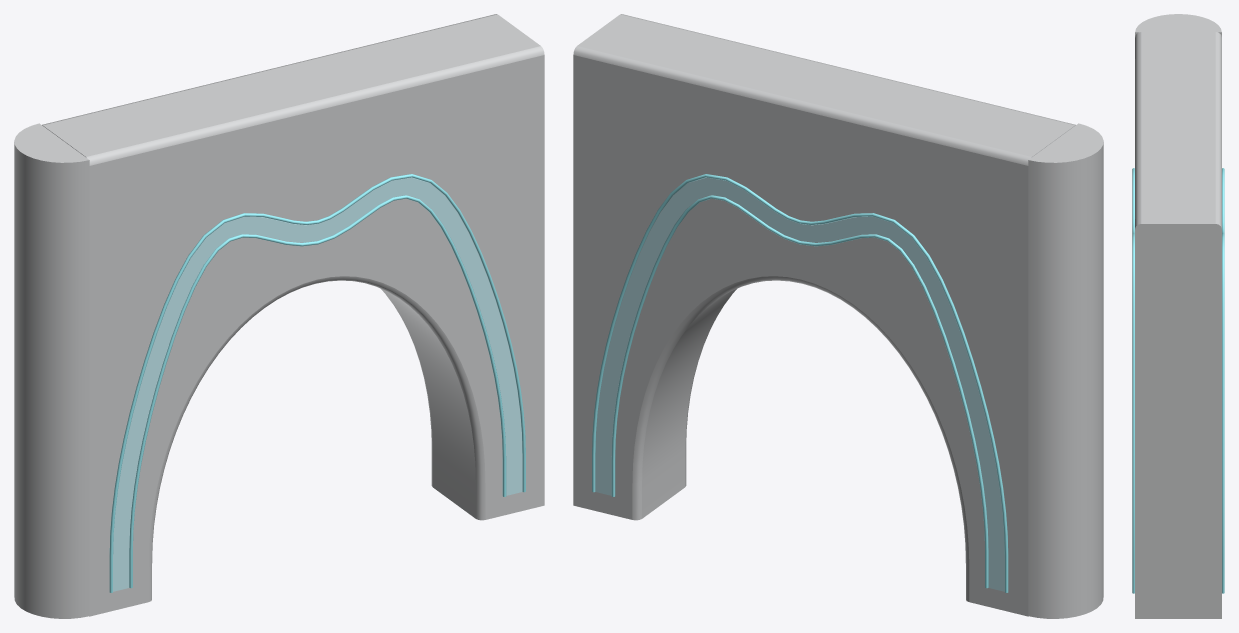
File: Arch_D10_Ribbon.fbx
3 renders of one model, left to right at view 1: azimuth 30°, elevation 25°; view 2: azimuth 150°, elevation 25°; view 3: azimuth 270°, elevation 25°, orthographic. The views are drawn at different scales.
Parts seen in each view (by area): view 1: Arch_D10_Ribbon; view 2: Arch_D10_Ribbon; view 3: Arch_D10_Ribbon.
Boxes of the visible parts, x1,y1,x2,y2 form: Arch_D10_Ribbon: [14, 14, 544, 618]; Arch_D10_Ribbon: [573, 14, 1103, 618]; Arch_D10_Ribbon: [1132, 14, 1224, 618].
Size of the model in its own units: 2.29 by 2.01 by 0.4253.
